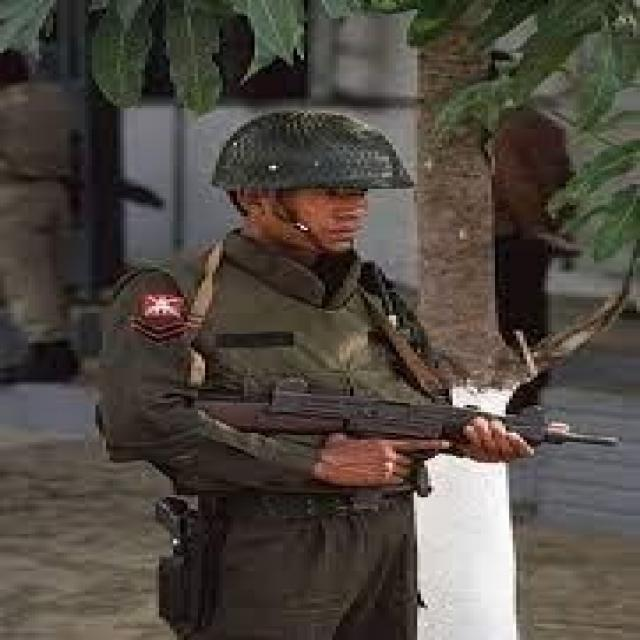gun: (88, 383, 615, 505)
